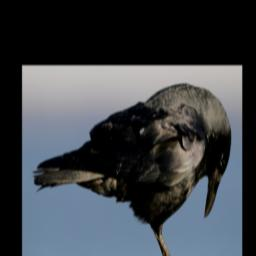Crow: (31, 82, 232, 256)
